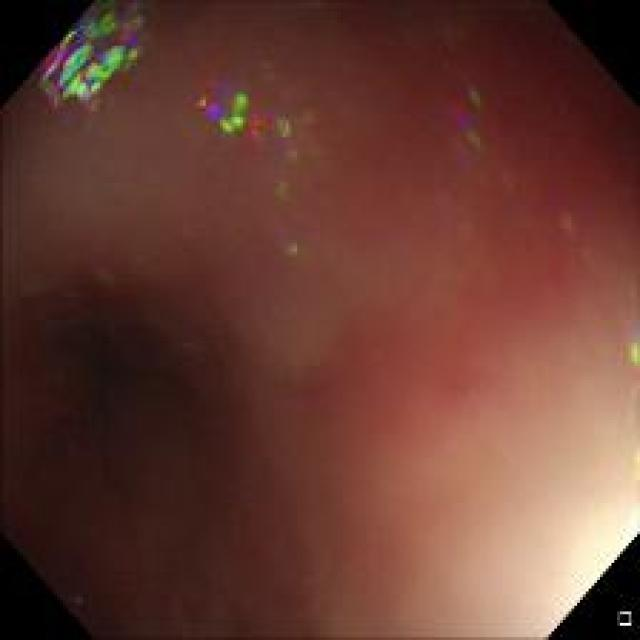blur: (5, 2, 636, 636)
color misalignment: (191, 59, 320, 172), (30, 4, 142, 102), (446, 81, 508, 170), (284, 238, 304, 260), (269, 180, 290, 196)
contrast: (21, 292, 264, 606)
saturation: (522, 471, 636, 626)
